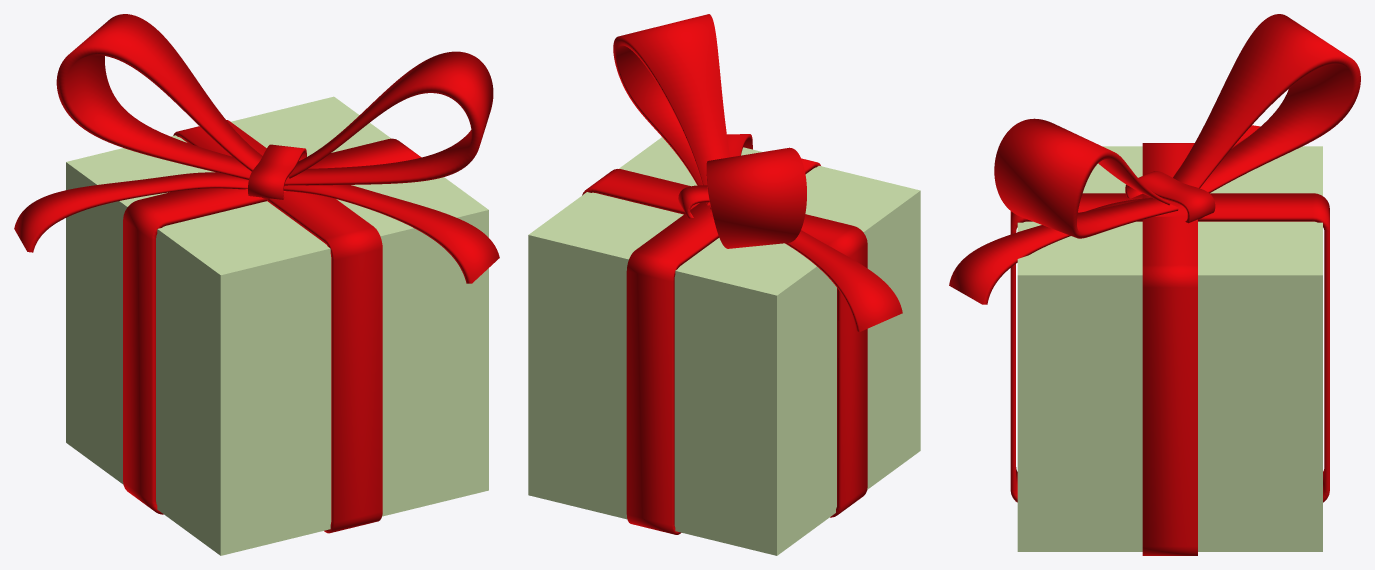
File: gift.glb
3 renders of one model, left to right at view 1: azimuth 30°, elevation 25°; view 2: azimuth 150°, elevation 25°; view 3: azimuth 270°, elevation 25°, orthographic. The views are drawn at different scales.
Parts seen in each view (by area): view 1: Gift; view 2: Gift; view 3: Gift.
Part boxes in pixels (box(x1,y1,x2,y2)): Gift: box(14, 14, 499, 555); Gift: box(528, 14, 920, 555); Gift: box(949, 14, 1360, 555).
Size of the model in its own units: 2.9 by 3.01 by 2.7.
